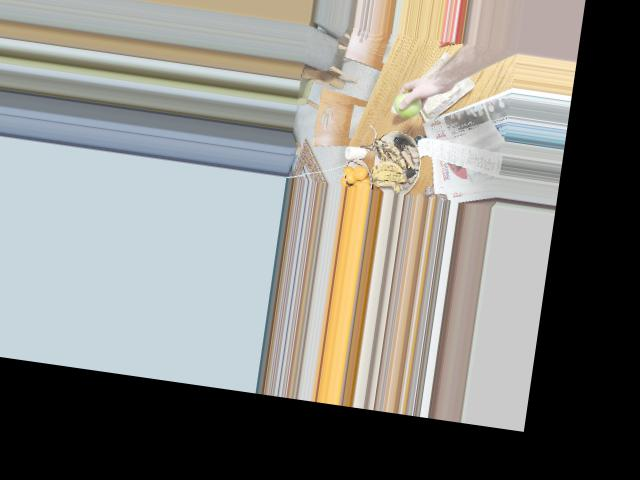apple: (392, 88, 422, 119)
